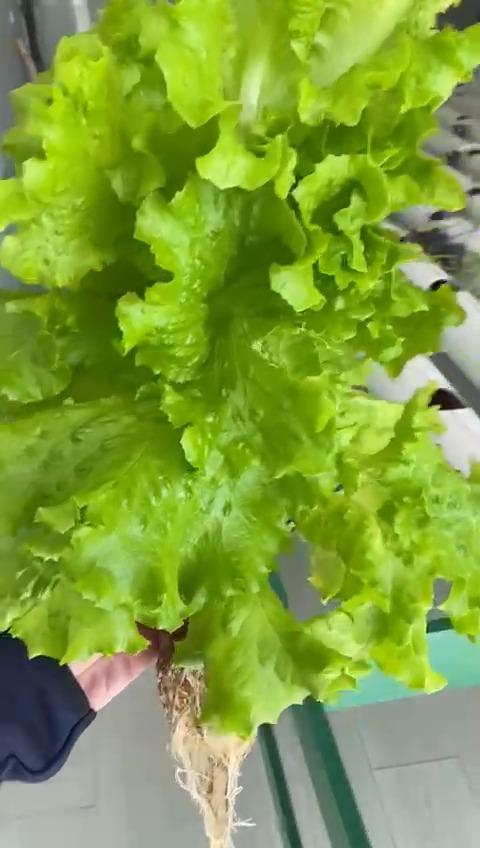Healthy: (0, 0, 480, 738)
